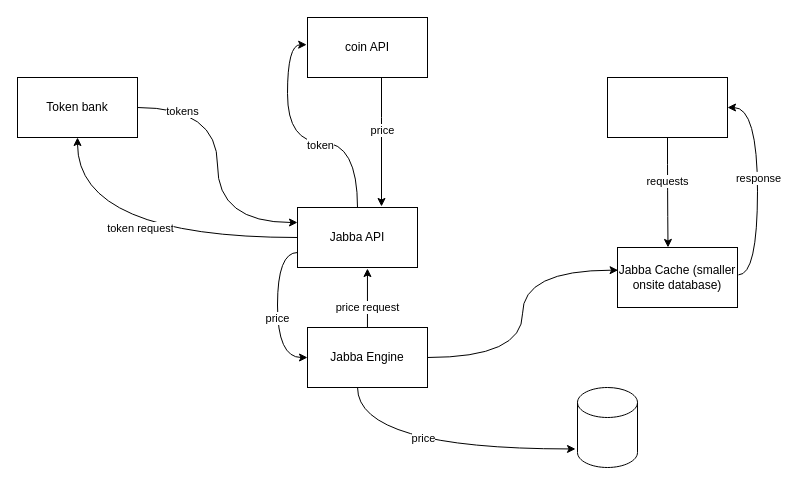
Image size: 798x485. Some labels were removed from this diagram. The centre of each missing label's shape, as x and y in pixels:
Database(offsite): the point at 607,427
Flask App: the point at 667,107
